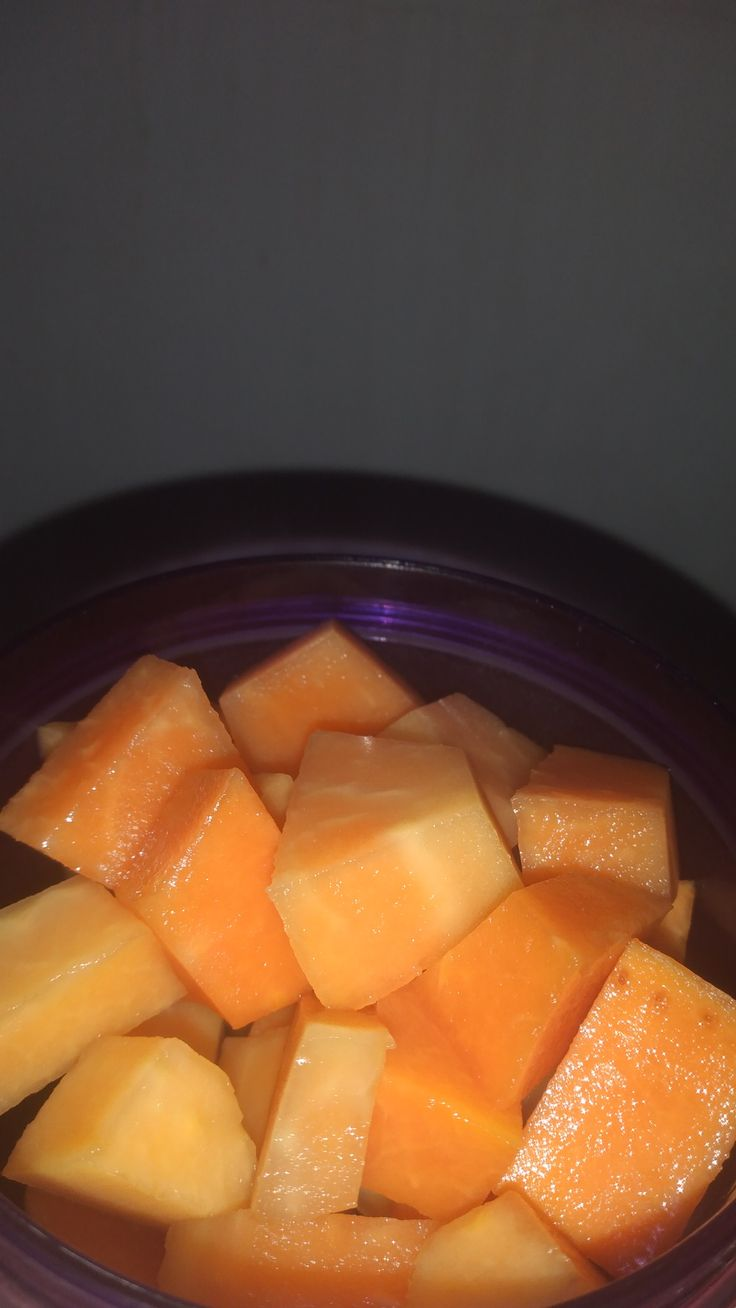buah_sayur_vitA: (93, 733, 589, 1249)
